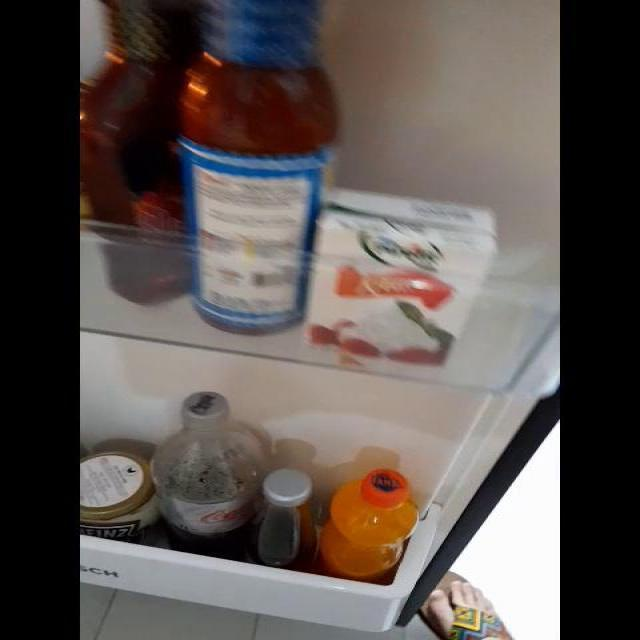cream: (312, 185, 487, 360)
sauce: (88, 0, 316, 320)
